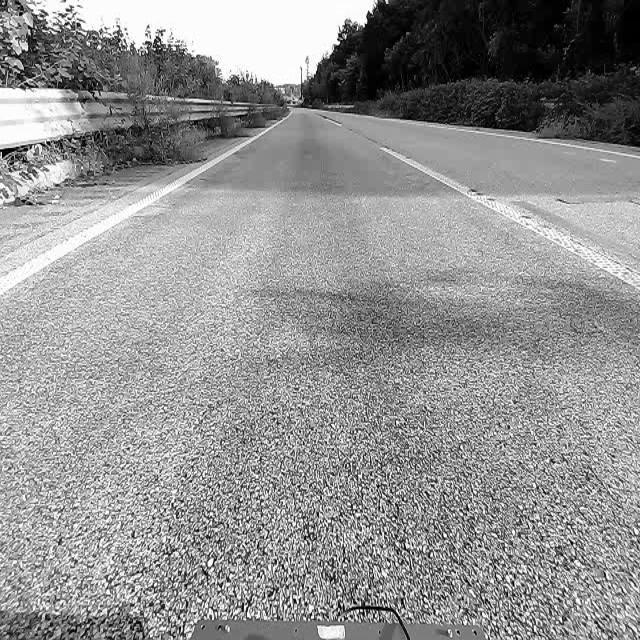Lane: (0, 108, 297, 322), (0, 120, 282, 297), (378, 123, 640, 308), (380, 147, 639, 291), (457, 128, 639, 159)
